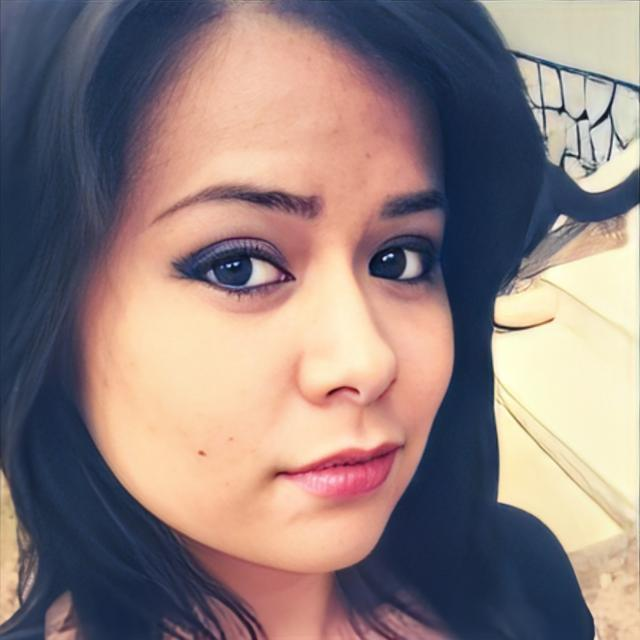content: (66, 0, 456, 575)
